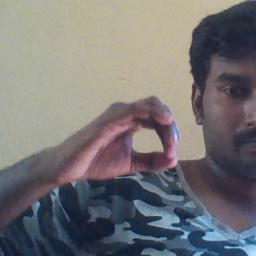O: (60, 93, 185, 182)
